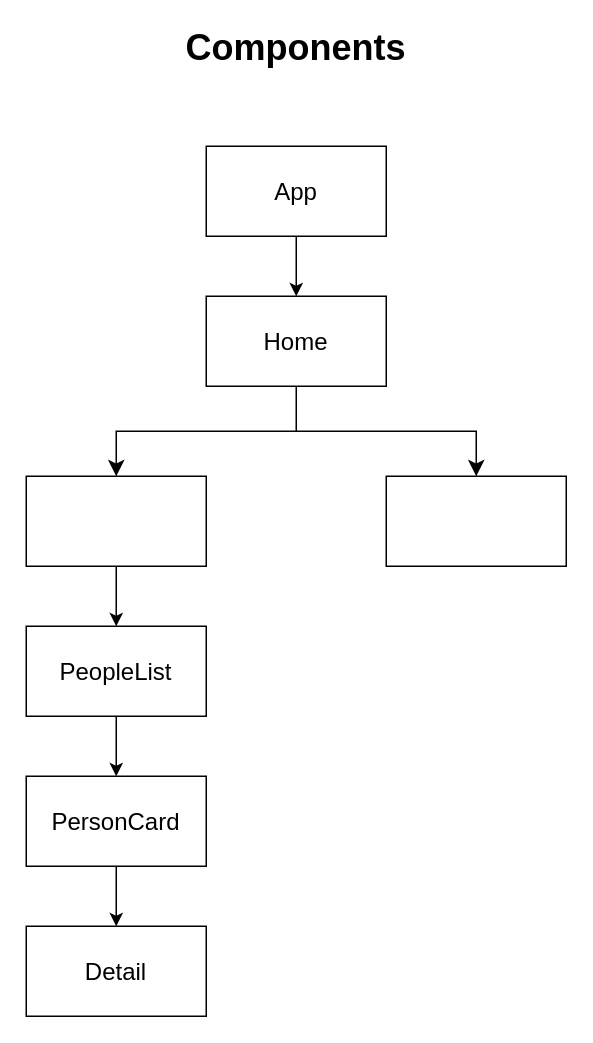
Image size: 593x1043. Some labels were removed from this diagram. The centre of each missing label's shape, as x and y in pixels:
"Blank" belongs at point (475, 520).
"PeoplePage" belongs at point (115, 520).
